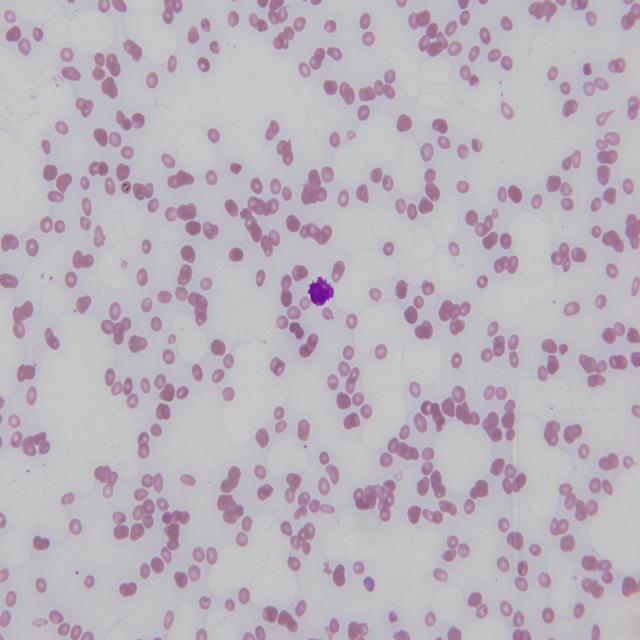cell: (308, 277, 334, 306)
